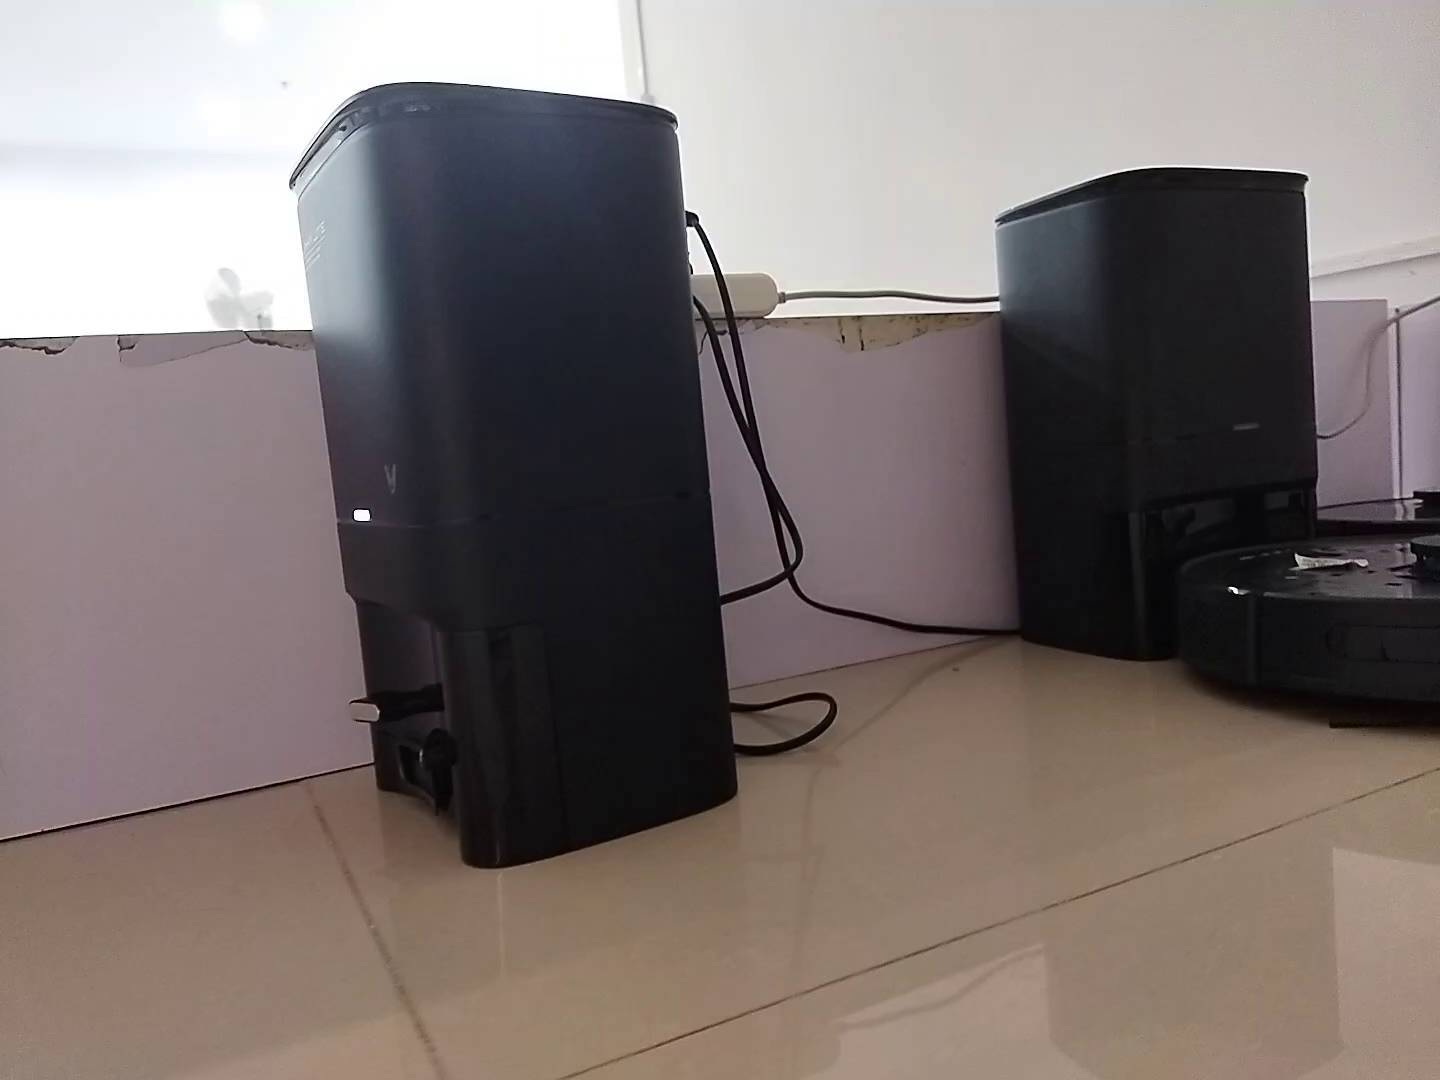dust collecting barrel: (289, 81, 740, 871), (992, 166, 1321, 664)
